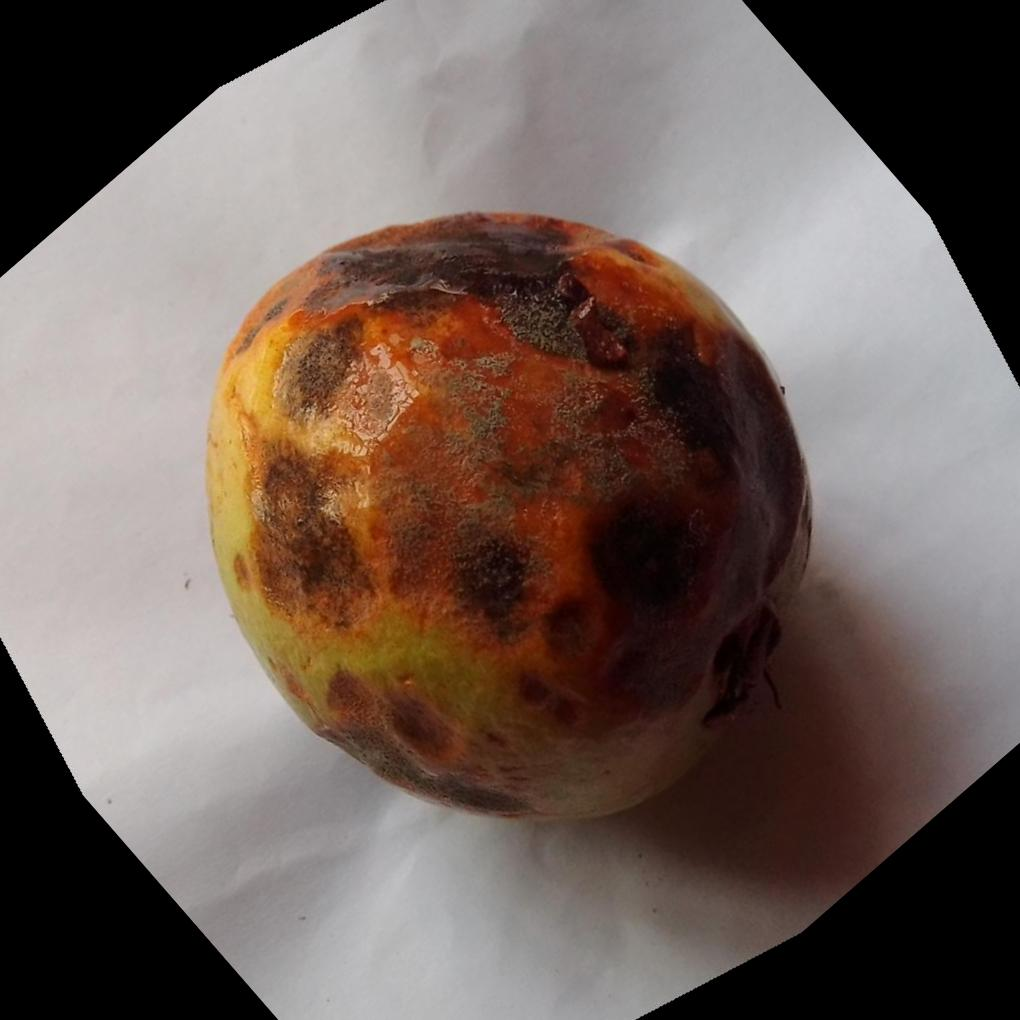FreshOrange: (198, 210, 811, 827)
